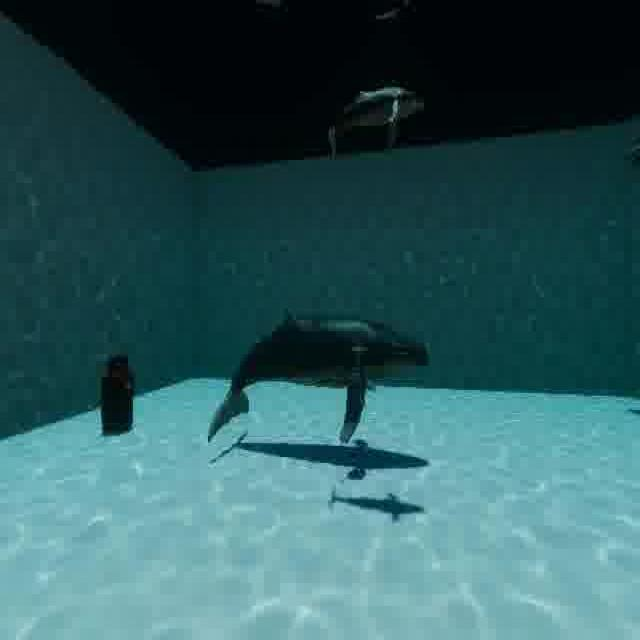Cylinder: (92, 348, 141, 443)
Whale: (190, 292, 441, 456), (323, 73, 434, 167)
